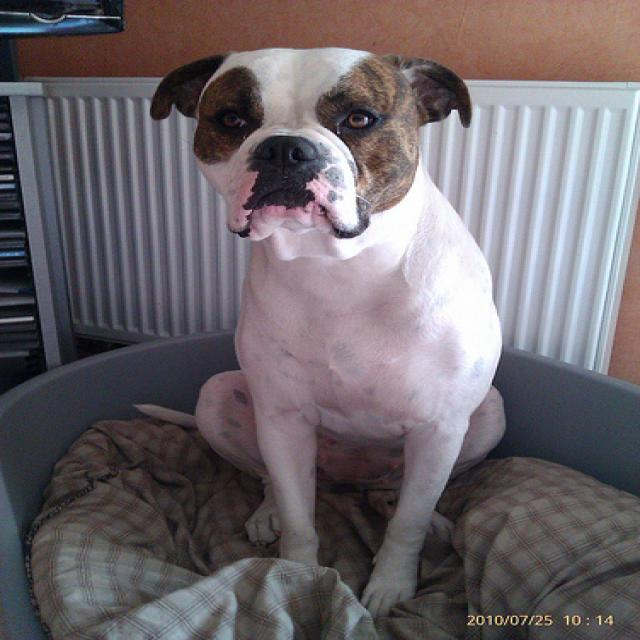dog-american_bulldog: (119, 36, 514, 621)
